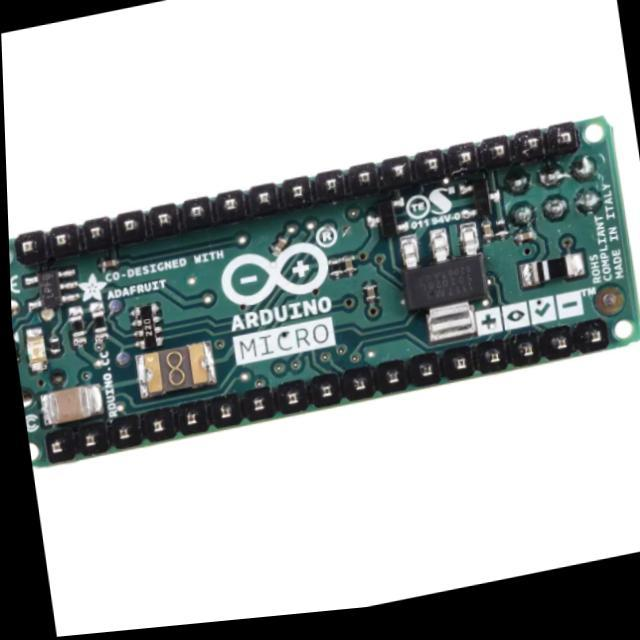Arduino-Micro: (12, 118, 640, 466)
